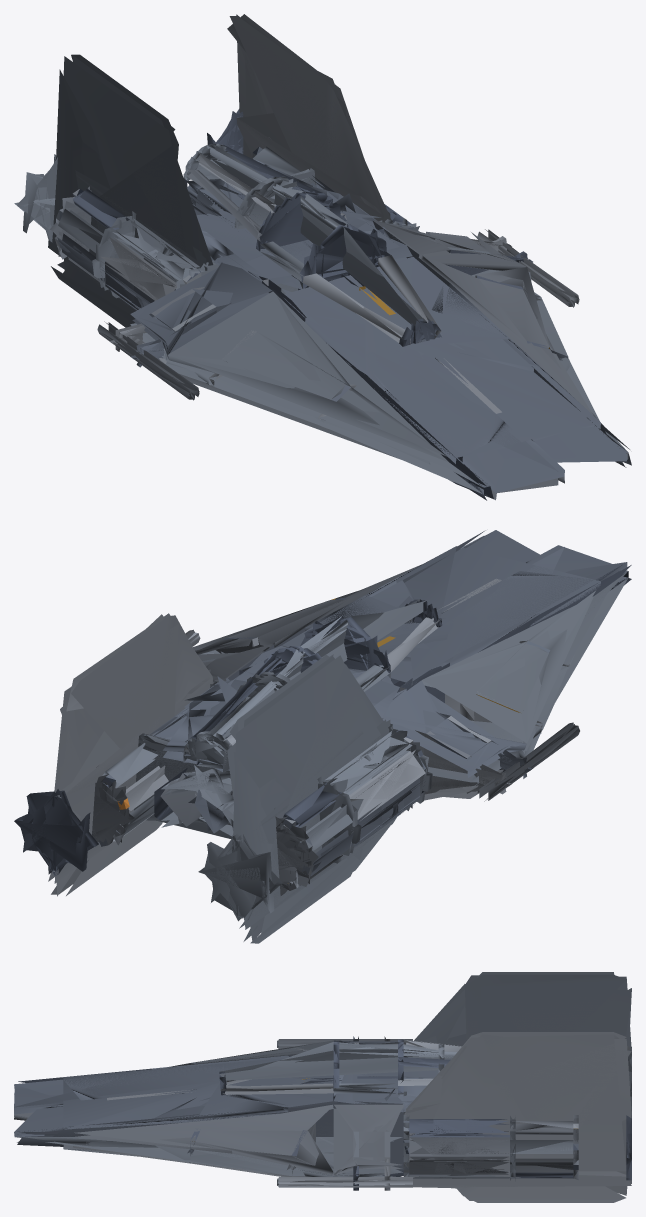
File: awing.glb
The picture shows the model from 3 angles, top to bottom: view 1: azimuth 30°, elevation 25°; view 2: azimuth 150°, elevation 25°; view 3: azimuth 270°, elevation 25°; orthographic projection. The views are drawn at different scales.
Parts seen in each view (by area): view 1: awing; view 2: awing; view 3: awing.
Boxes of the visible parts, x1,y1,x2,y2 form: awing: (14,14,631,500); awing: (14,530,631,943); awing: (14,972,631,1202).
Bounding box in the file's own units: 0.5559 × 0.2924 × 1.
